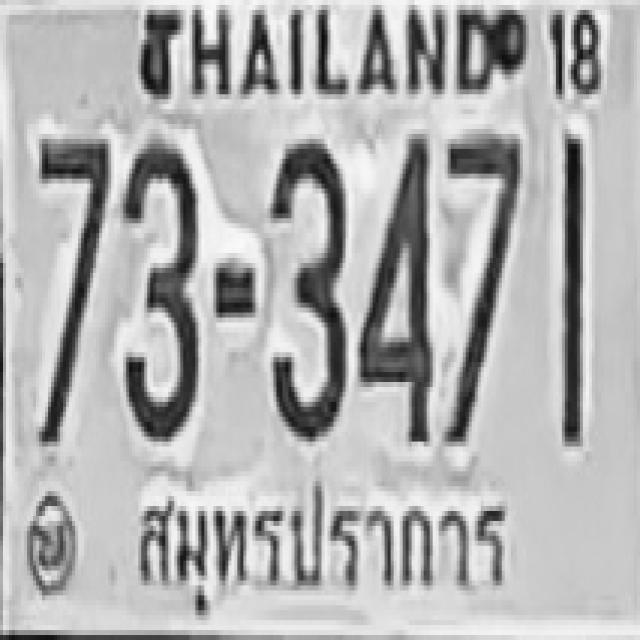1: (559, 132, 583, 444)
3: (118, 137, 196, 439), (269, 134, 344, 437)
4: (358, 129, 430, 442)
7: (445, 129, 520, 442), (33, 134, 108, 442)
SamutPrakan: (122, 466, 516, 618)
